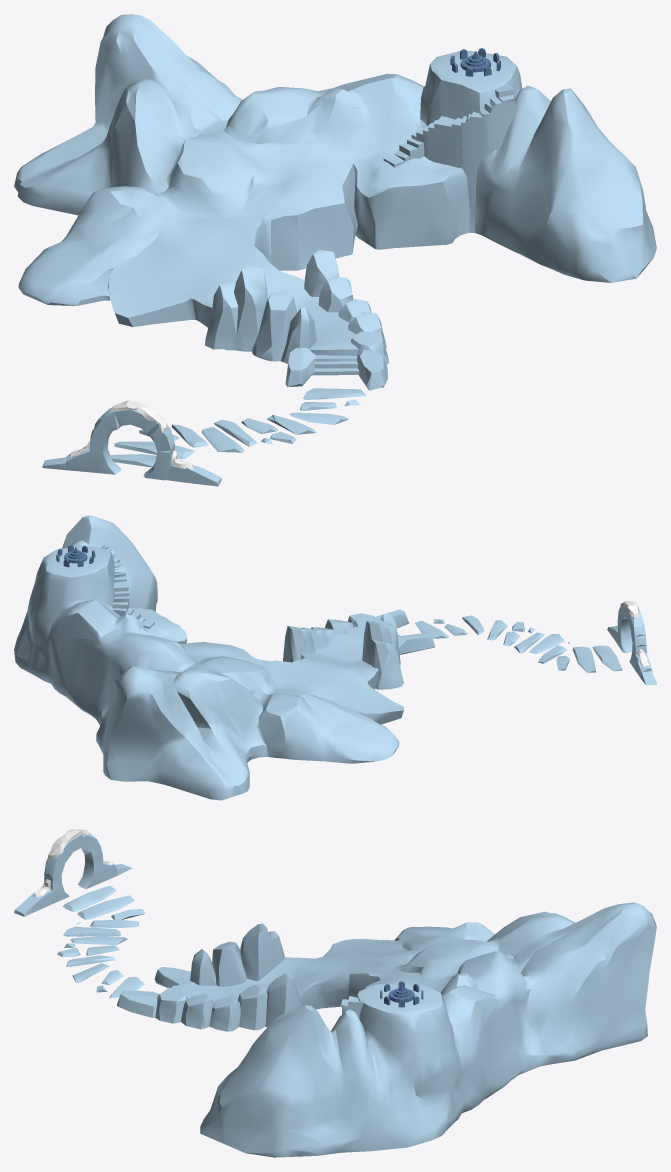
File: Neighborhood_PudgyStoneLocked.fbx
3 views of the same model, one above another, from view 1: azimuth 30°, elevation 25°; view 2: azimuth 150°, elevation 25°; view 3: azimuth 270°, elevation 25° (orthographic). The views are drawn at different scales.
Parts seen in each view (by area): view 1: Environment_PudgyStone, Object_Snow, Building_Stones; view 2: Environment_PudgyStone, Building_Stones; view 3: Environment_PudgyStone, Building_Stones, Object_Snow.
Part boxes in pixels (x1,y1,x2,y2): Environment_PudgyStone: (14,14,656,486); Object_Snow: (69,400,193,470); Building_Stones: (450,48,500,76); Environment_PudgyStone: (14,515,656,800); Building_Stones: (56,545,95,567); Environment_PudgyStone: (14,832,656,1157); Building_Stones: (380,981,423,1007); Object_Snow: (32,829,112,897).
Size of the model in its own units: 3755 by 787 by 3479.
